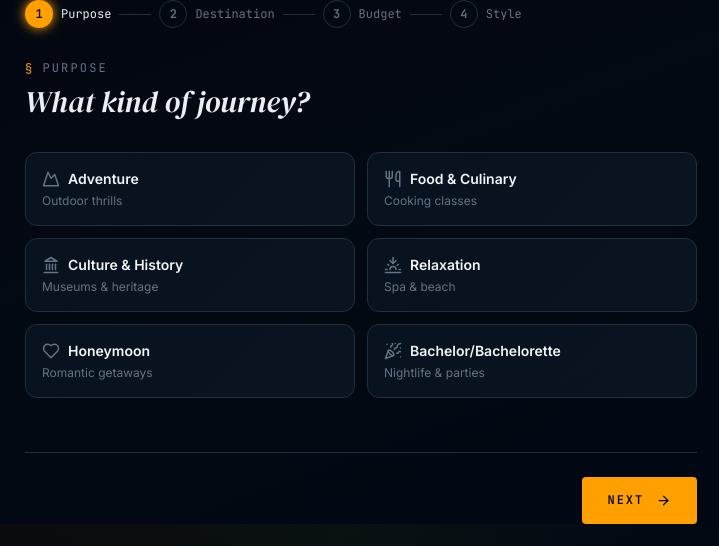
PlanWizard › shows Back button on step 2
The image size is (719, 546).
Click the button "Adventure Outdoor thrills": (103, 178) [25,152,355,226]
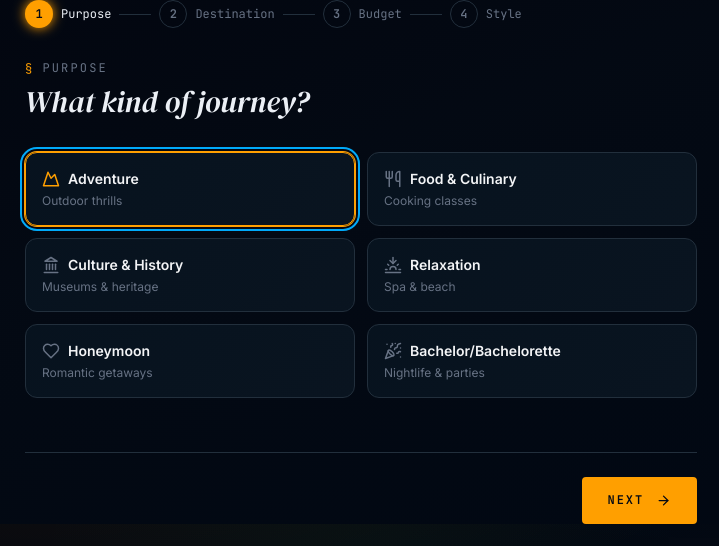
Click the button "Next": (639, 500) [582,477,697,524]
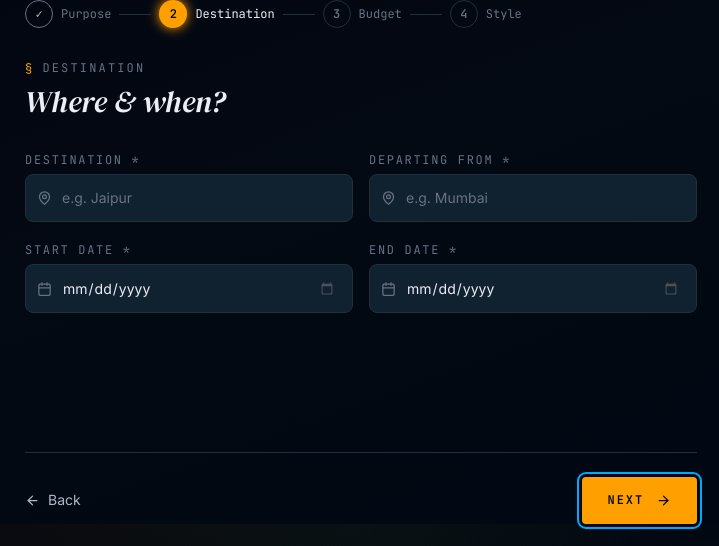
Now the button "Back" is shown, box [25,490,81,511]
